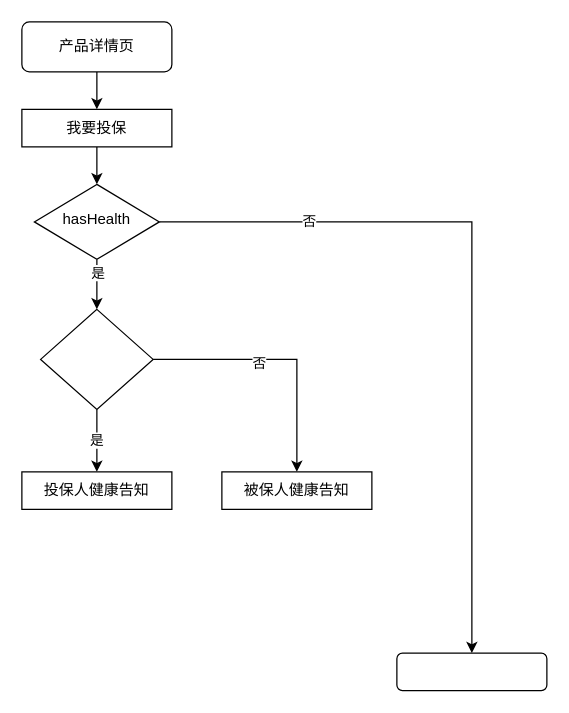
This 569x713 diagram has some shape labels left out. Here are the shapes that lost their labels. From the top down, the centre of each, then its label:
At point (96, 358): "是否投保 豁免险".
At point (471, 671): "试算\提单".
